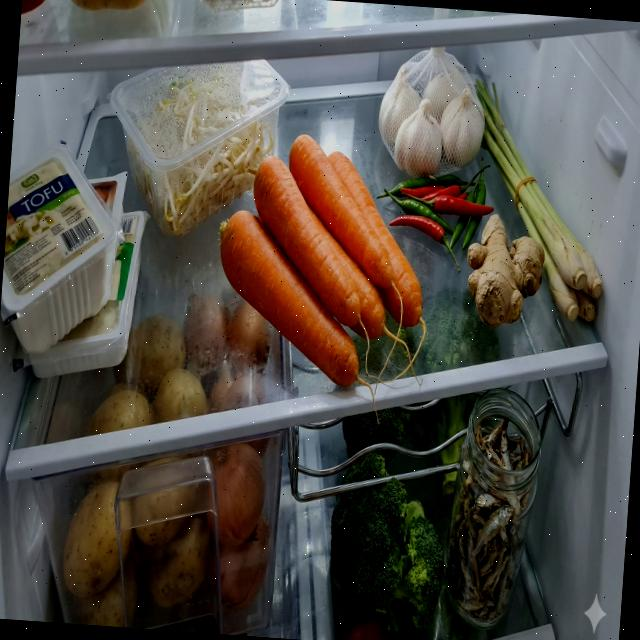anchovies: (440, 412, 535, 630)
bean_sprouts: (125, 74, 278, 244)
brocolli: (323, 448, 450, 634), (411, 285, 505, 499)
carrot: (211, 129, 435, 391)
chili: (372, 150, 498, 276)
garlic: (374, 42, 489, 184)
ginger: (462, 212, 548, 332)
lemongrass: (455, 78, 617, 325)
onion: (200, 440, 276, 614)
potato: (58, 444, 218, 632), (87, 310, 214, 444)
tofu: (0, 136, 122, 362)
